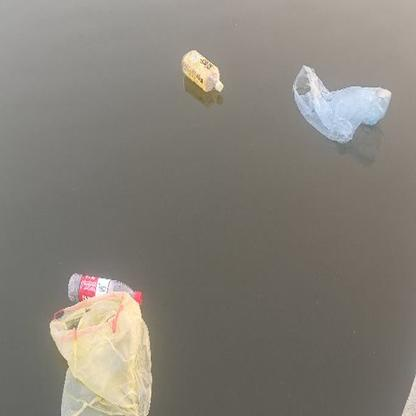plastic bag: (50, 294, 153, 416), (294, 64, 392, 143)
plastic bottle: (68, 272, 143, 307), (182, 49, 224, 94)
